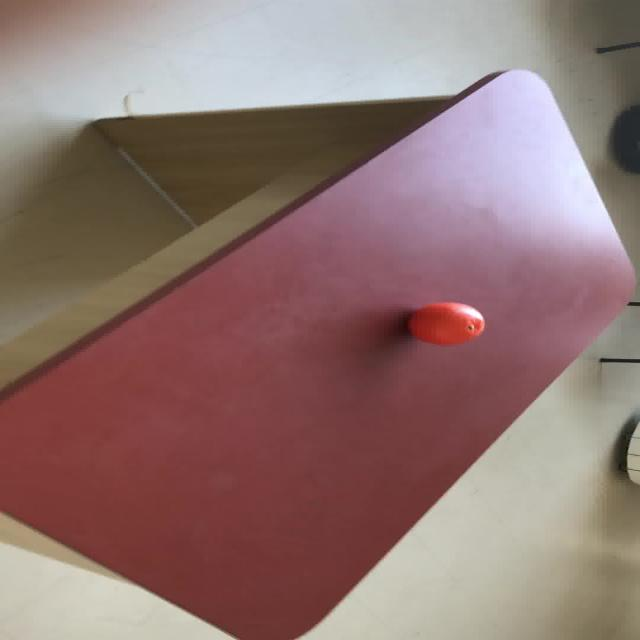orange: (406, 301, 484, 345)
